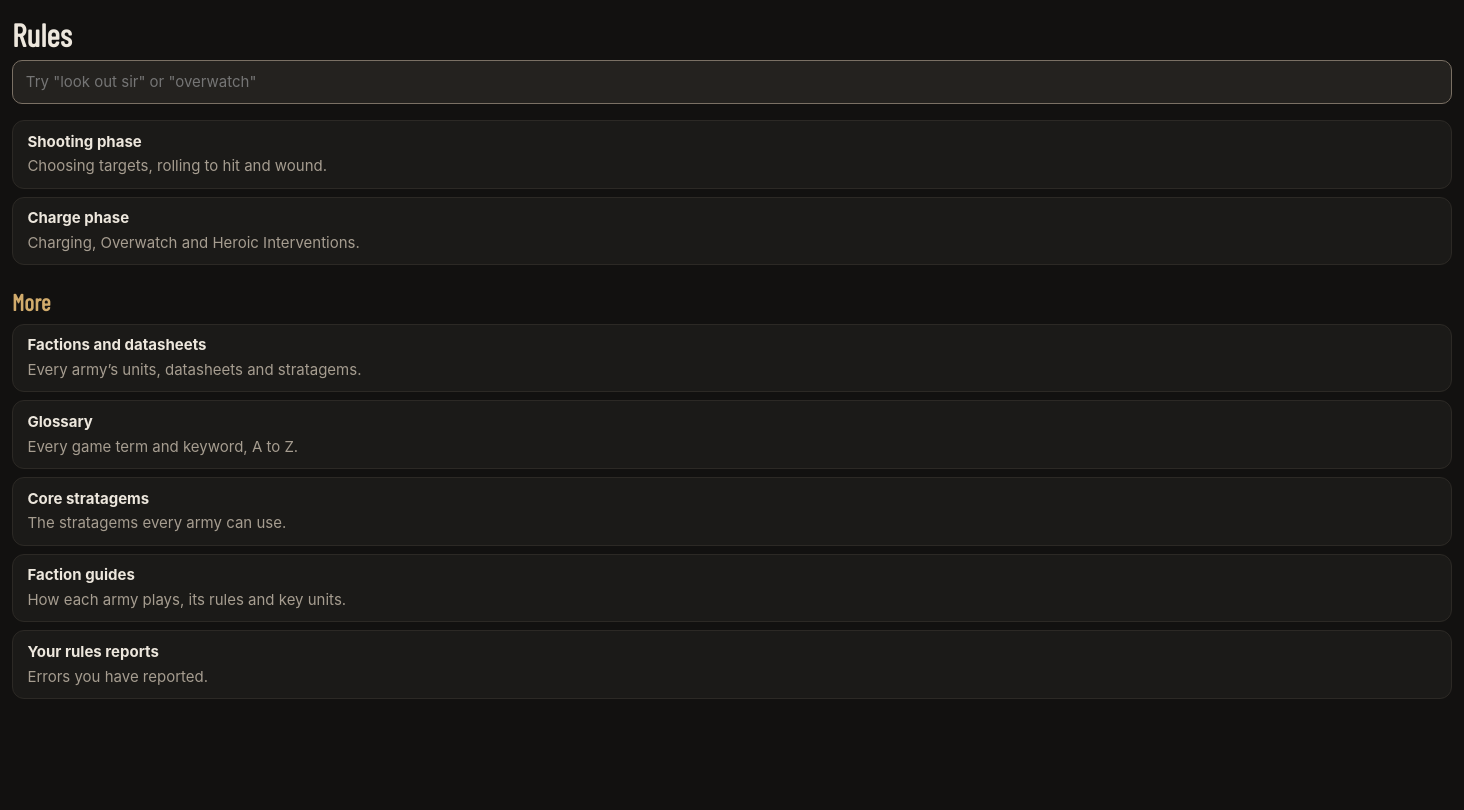
Test: searching lists results that link to the section
Type "overwatch" into the search field named "Search the rules".
click(732, 82); type("overwatch")  # box [12,60,1452,104]
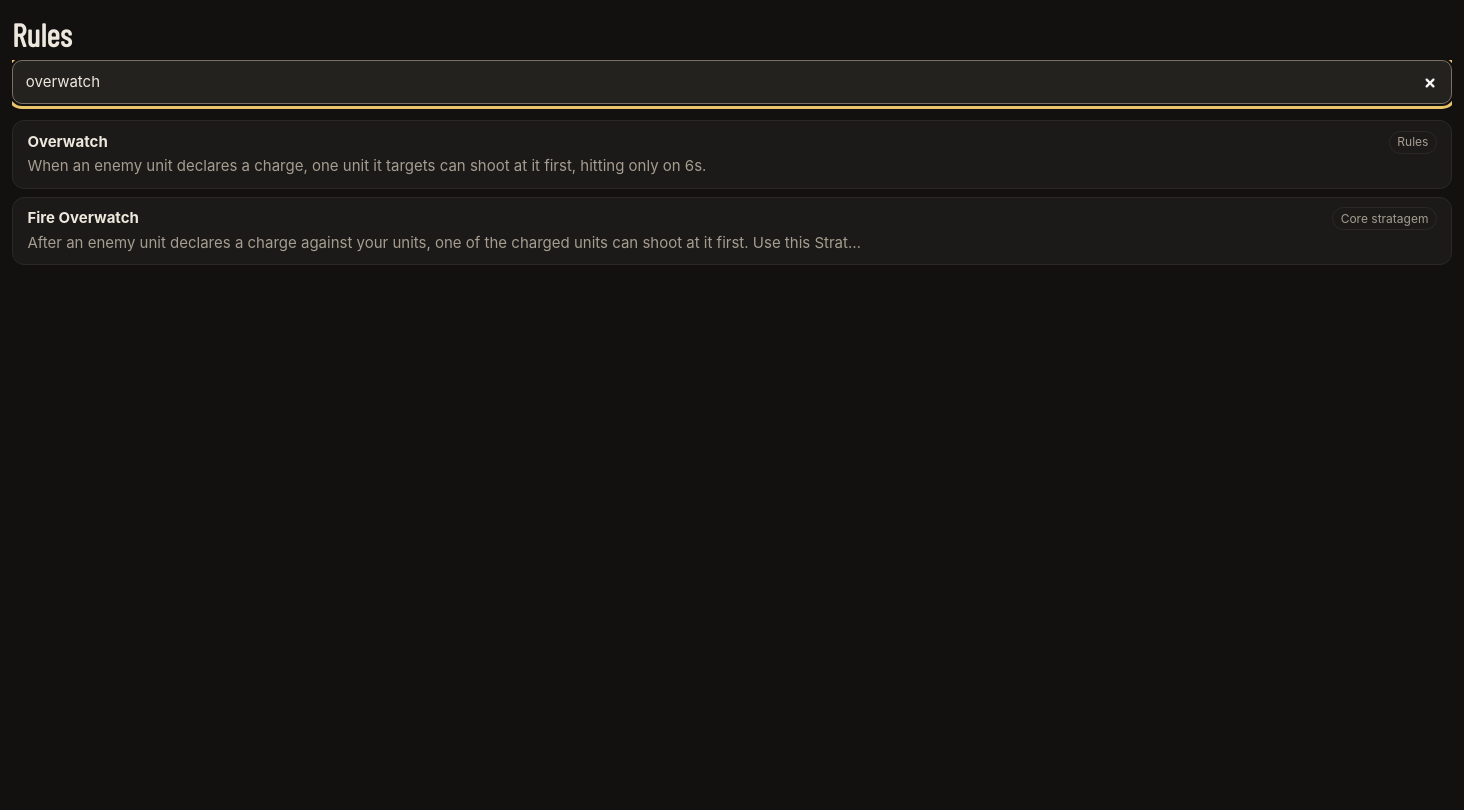
Expected: the link "Shooting phase" is gone
